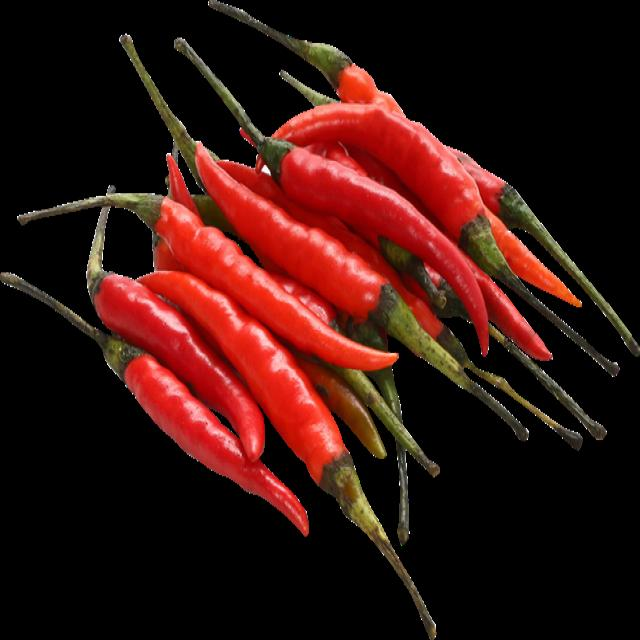red chili: (145, 272, 435, 638), (175, 38, 490, 352), (196, 145, 526, 435), (279, 102, 603, 362), (0, 274, 307, 535), (17, 195, 398, 370), (86, 208, 265, 461)
